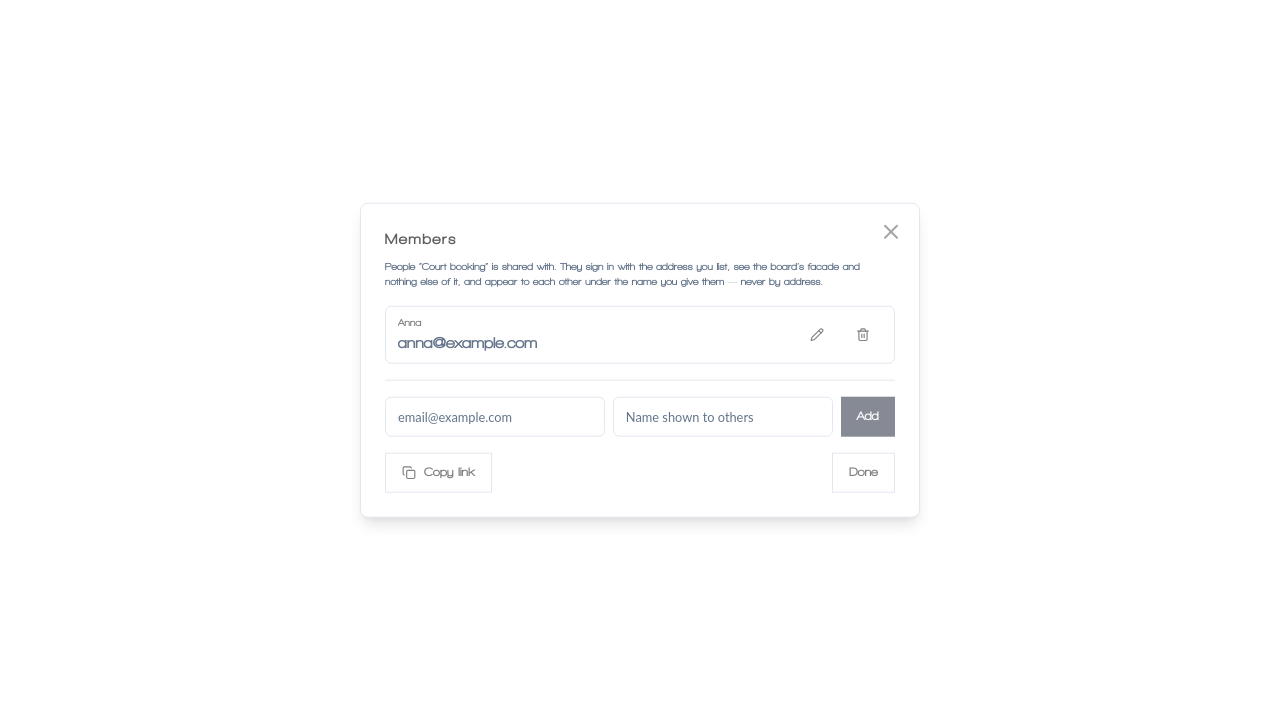
Test: the members dialog › renames an entry, keyed by its address
This screenshot has width=1280, height=720.
Expected: the text "Anna" is shown, [398,317,421,328]
Click the button named "Rename anna@example.com" at (817, 334), box [798,316,836,352]
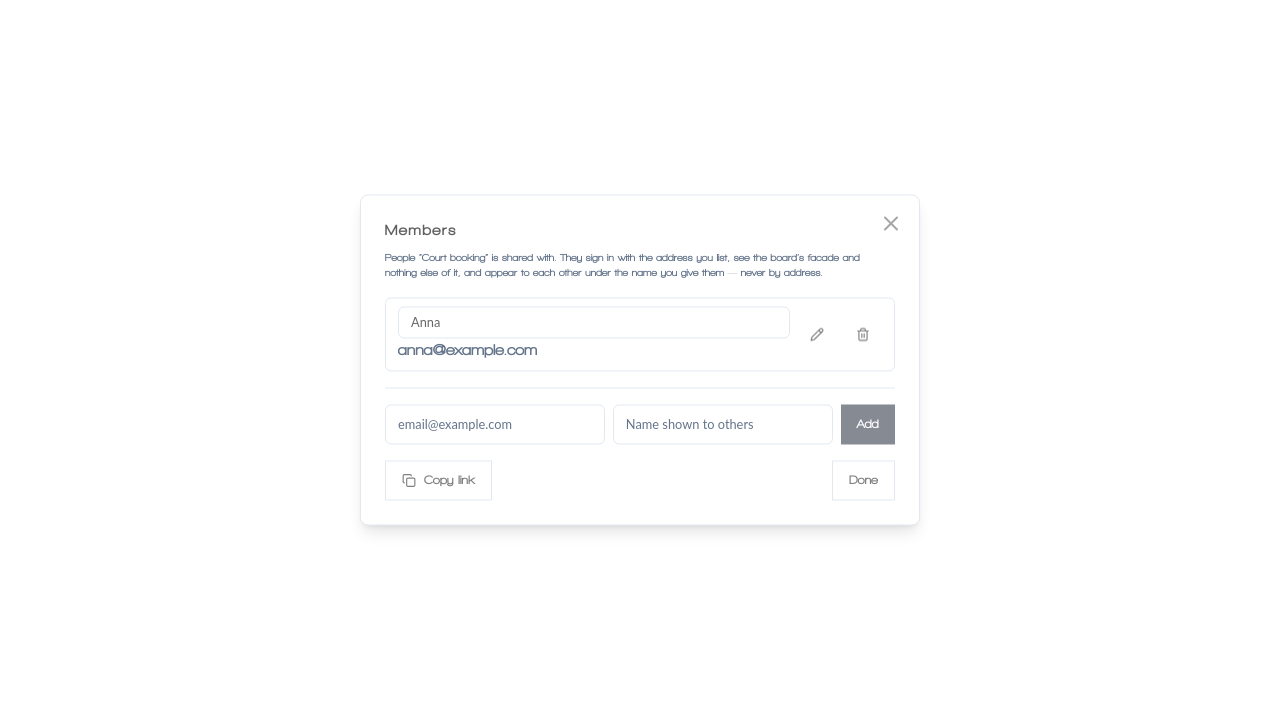
Replace the text in the field named "Name for anna@example.com" with "Anna K." at (594, 322), box [398,306,790,338]
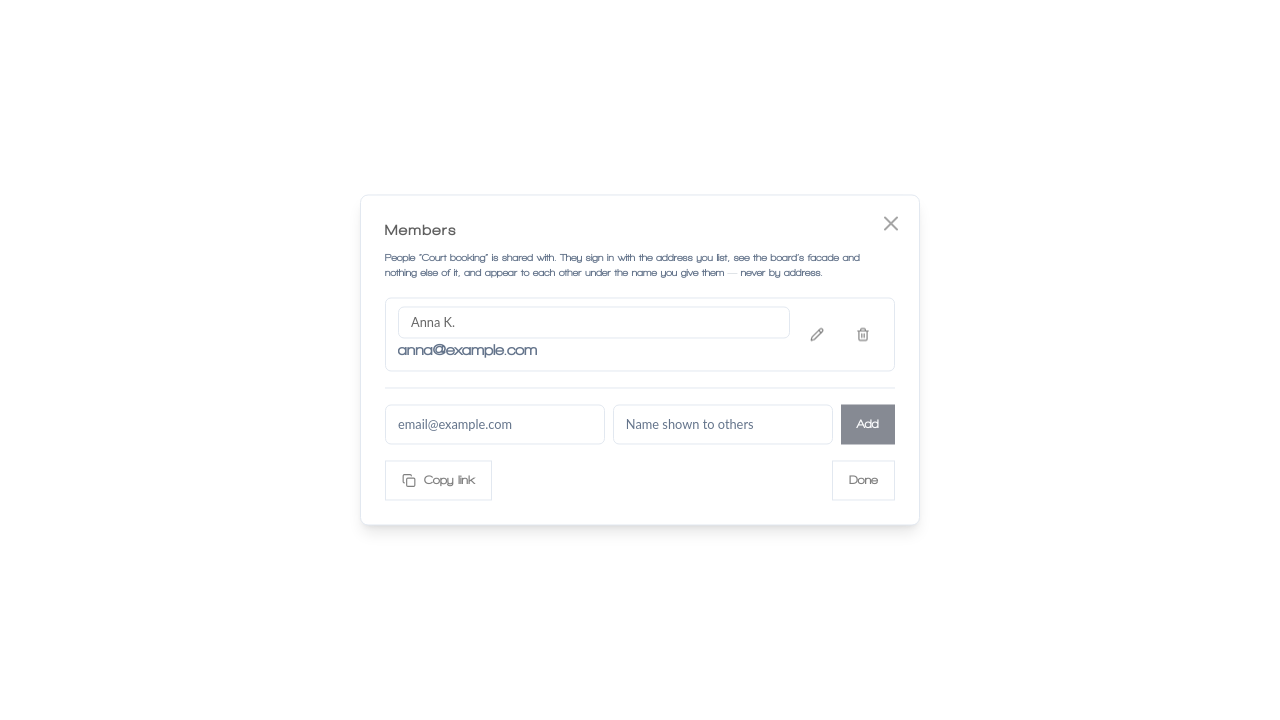
Press Enter in the field named "Name for anna@example.com", box [398,306,790,338]
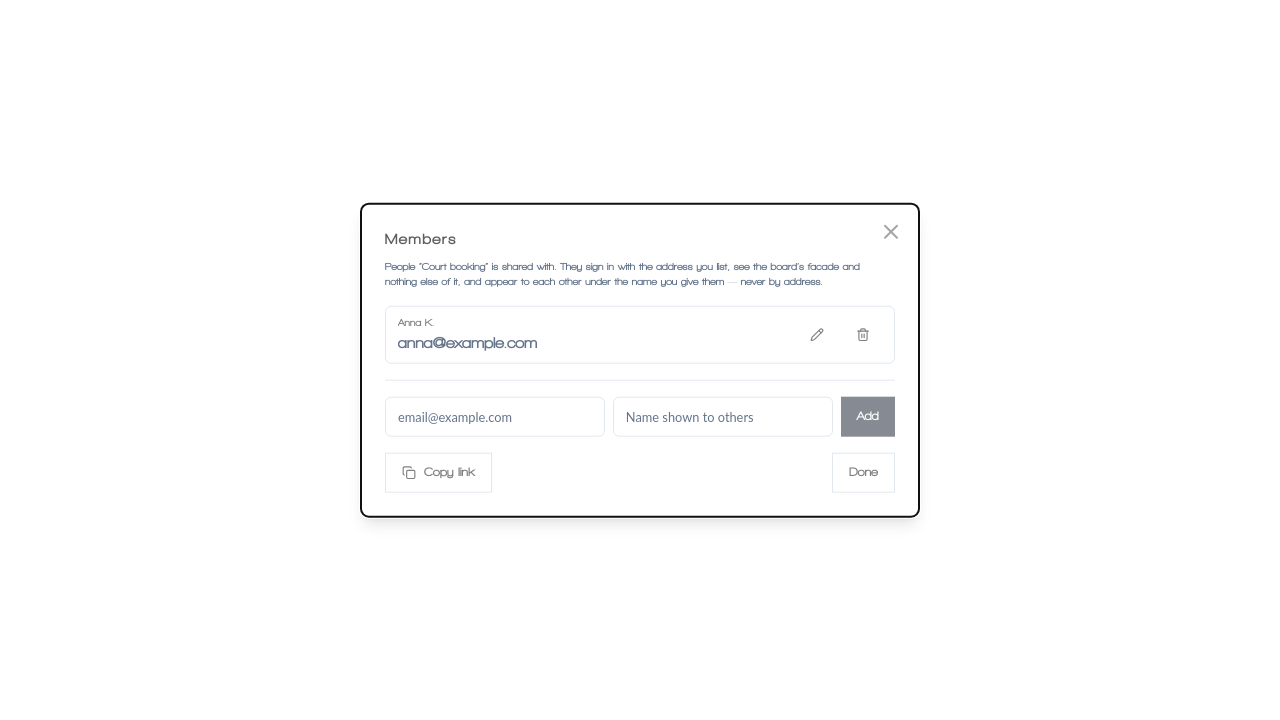
Result: the text "Anna K." is shown at [398,317,434,328]
